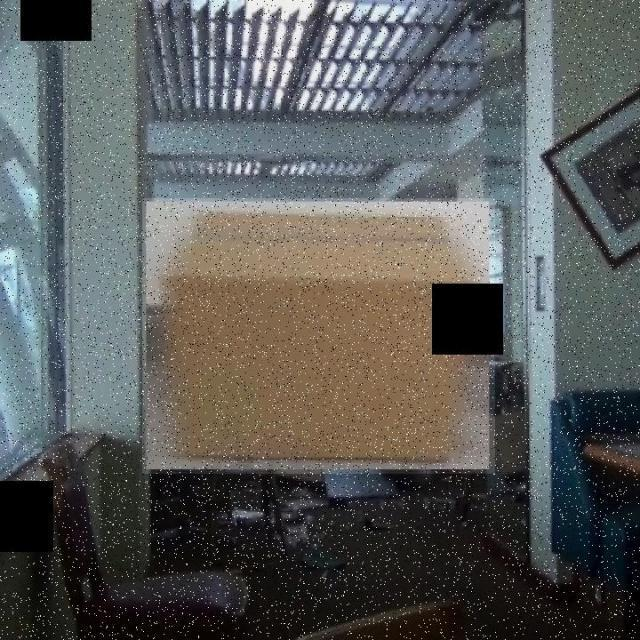box: (142, 198, 495, 474)
